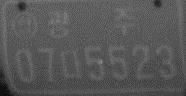0: (16, 47, 34, 84)
2: (132, 44, 154, 80)
3: (155, 43, 177, 81)
5: (107, 44, 129, 81), (83, 46, 105, 80)
7: (36, 46, 57, 83)
광주_D: (46, 9, 136, 37)
다: (60, 49, 82, 81)
영: (11, 11, 39, 42)
